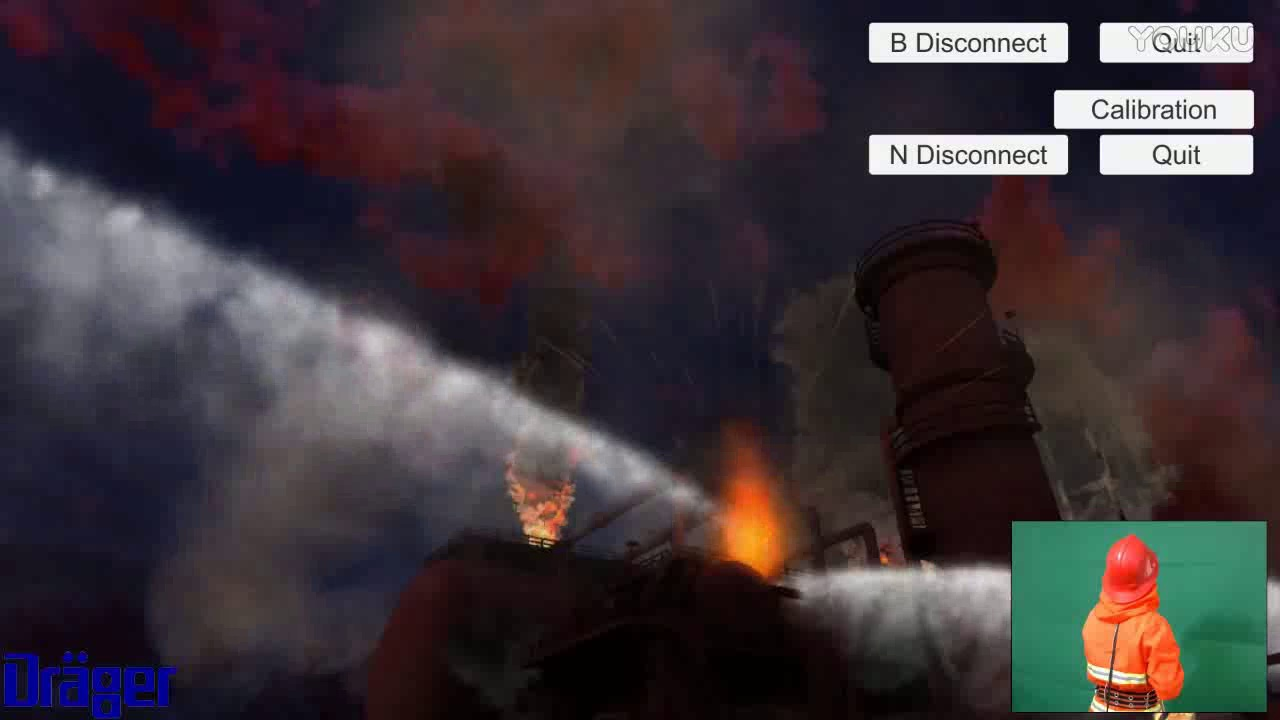fire: (701, 415, 801, 587)
